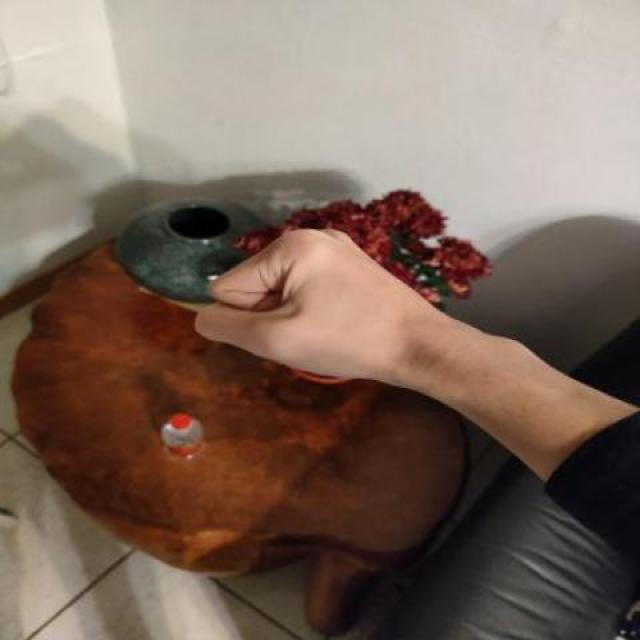Closed Hand: (190, 229, 410, 407)
